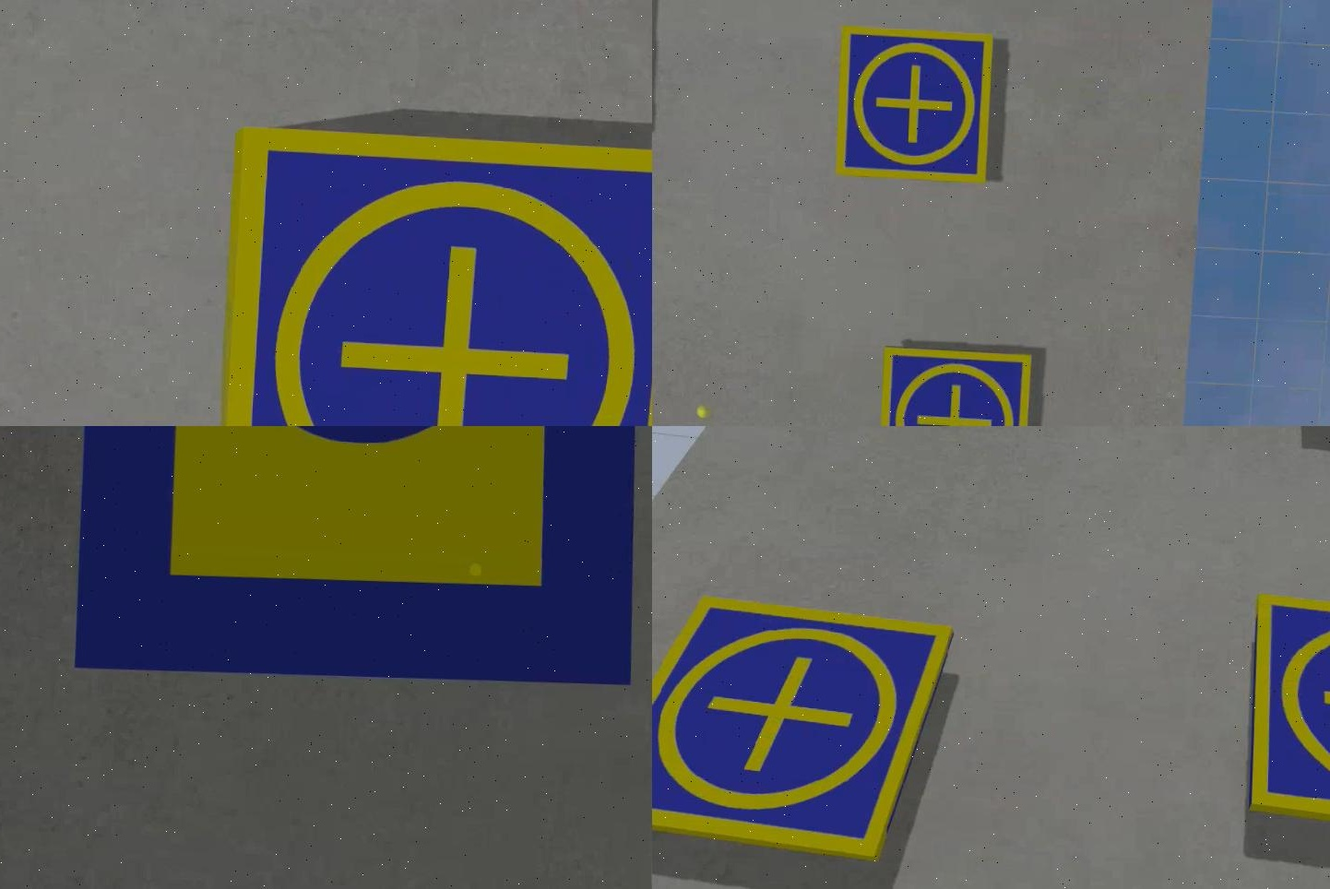large_base: (71, 426, 648, 692)
small_base: (218, 122, 651, 426), (651, 594, 951, 874), (832, 25, 996, 188), (1240, 590, 1328, 850), (877, 345, 1032, 426)
